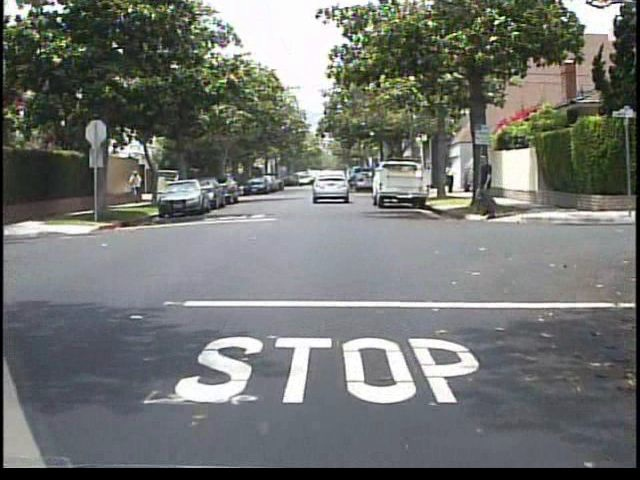person: (464, 152, 505, 221), (128, 169, 149, 206), (170, 170, 187, 203), (444, 160, 458, 199)
